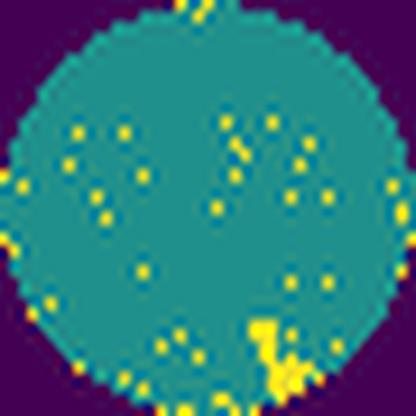Edge-Loc: (248, 314, 316, 405)
